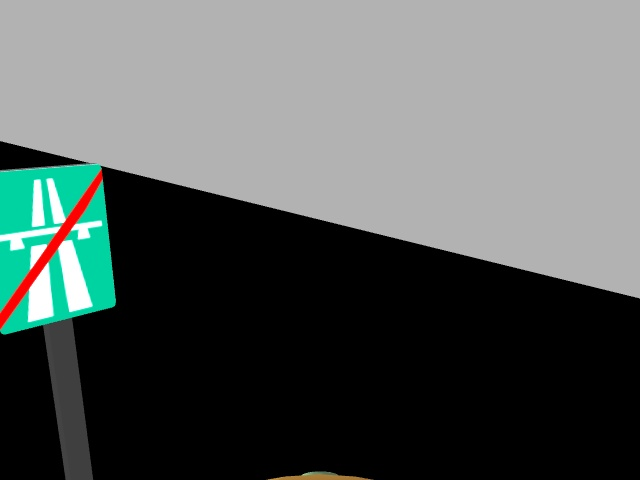HighwayExit: (0, 162, 110, 338)
